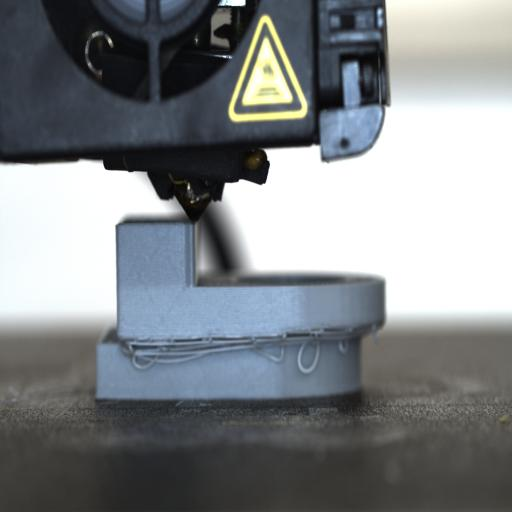layer_shift: (95, 321, 386, 347)
